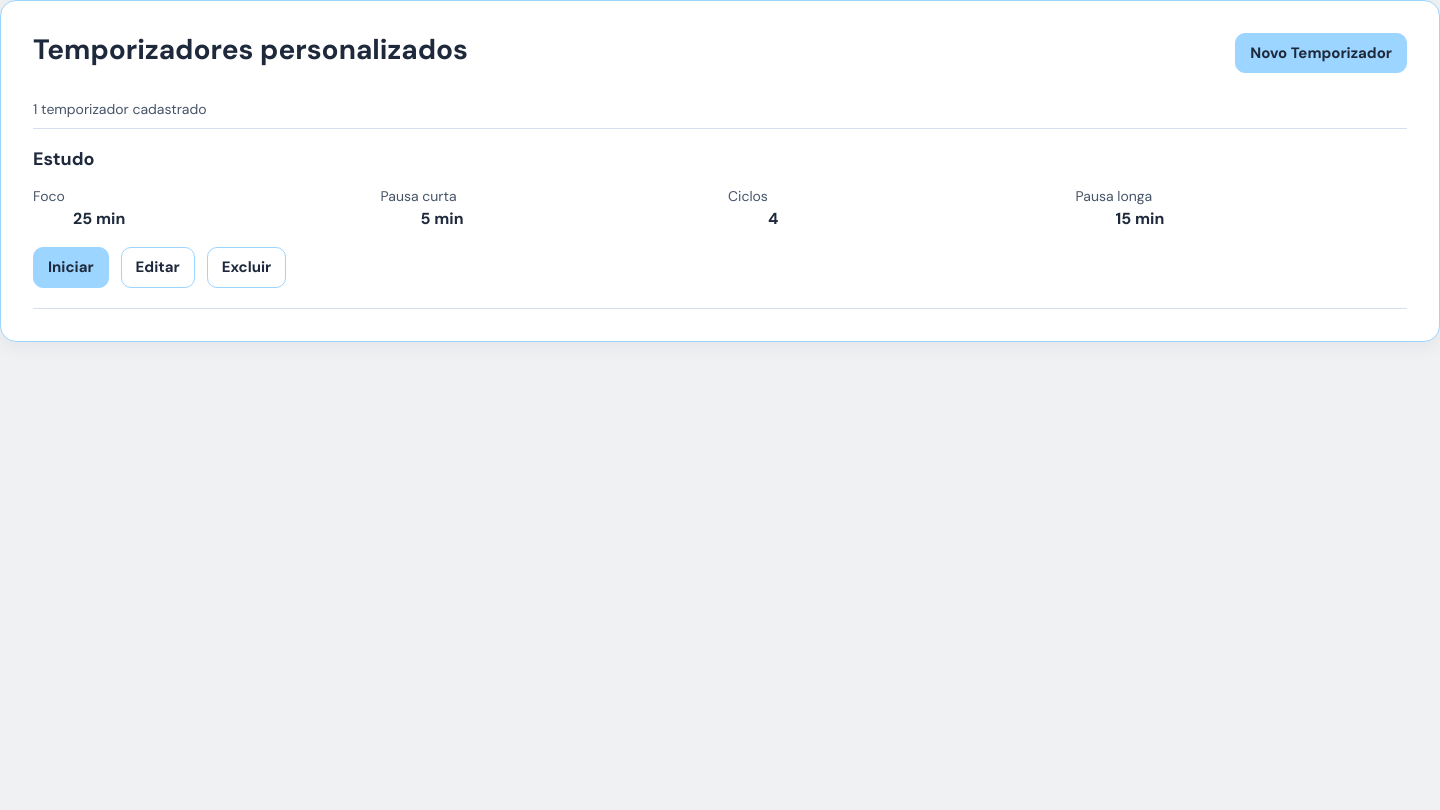
Test: GerenciadorPresets › confirma a exclusão e persiste a lista atualizada
The image size is (1440, 810).
Click the button "Excluir" at (246, 267), box [207,247,286,288]
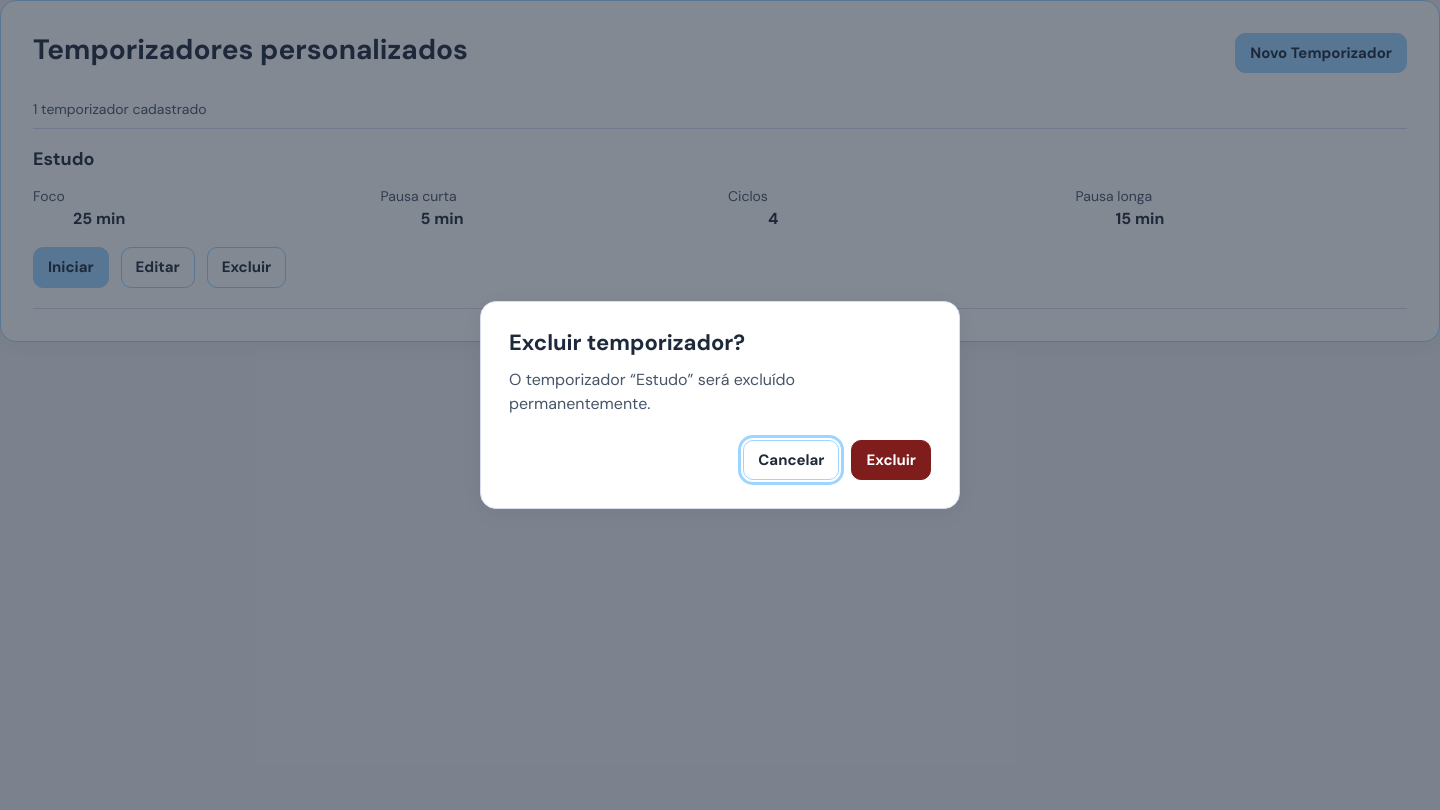
Click the button "Excluir" at (891, 460), box [852,440,931,480]
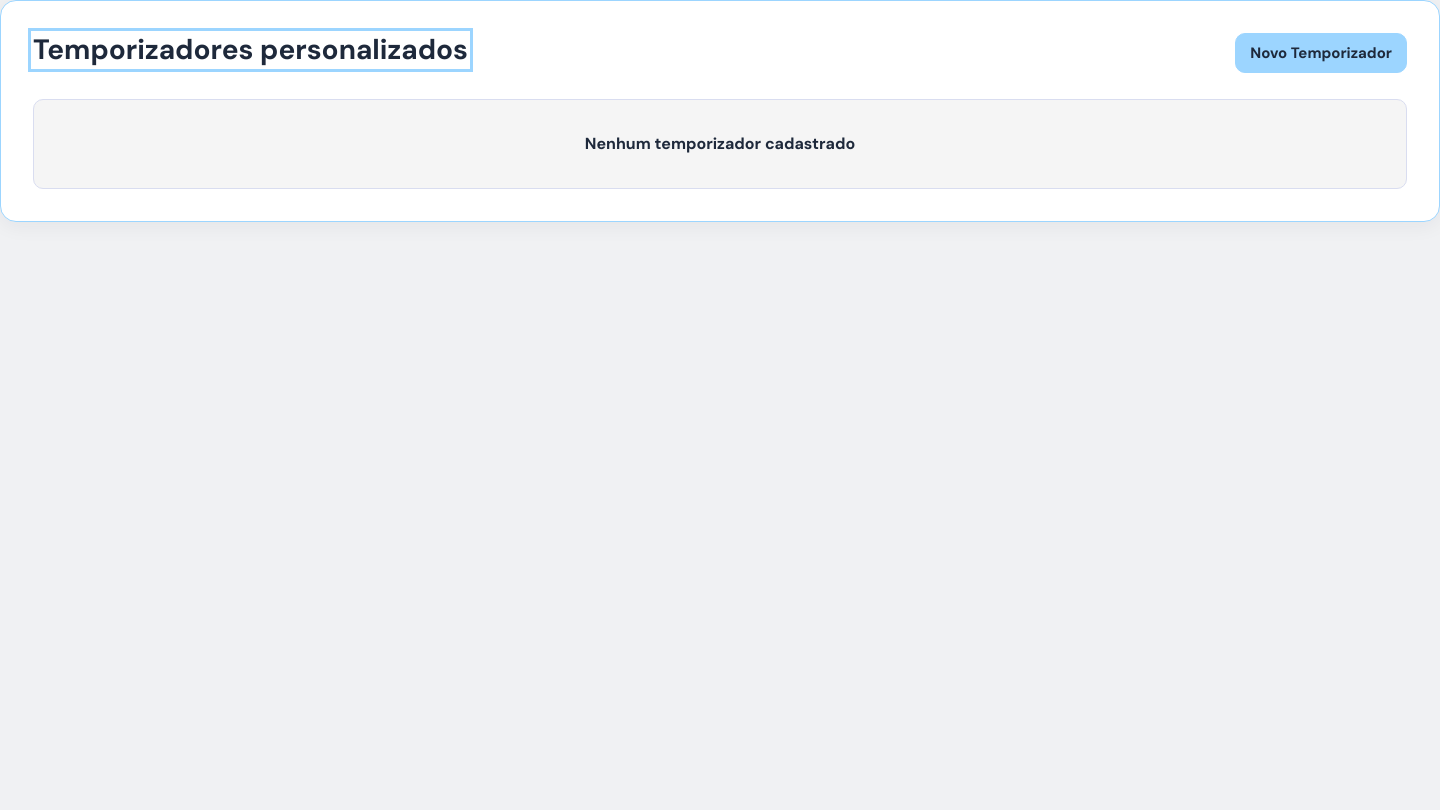
expect the dialog is gone: met
expect the heading "Estudo" is gone: met
